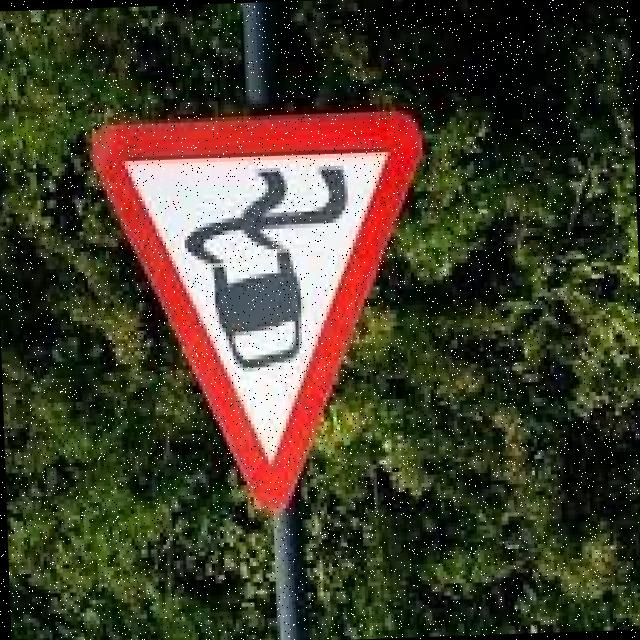road_slippery: (85, 107, 434, 516)
